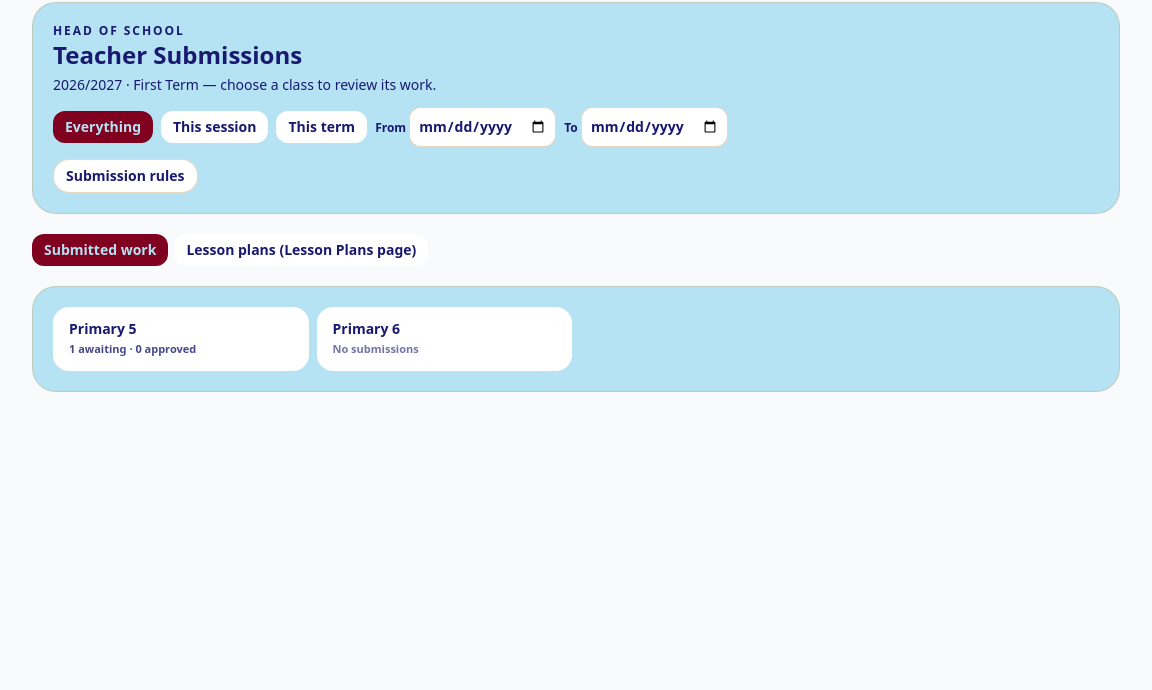
Scenario: a reviewer chooses a class, sees who has not submitted, and opening work starts its review
Click the button "Primary 5 1 awaiting · 0 approved" at [181, 339], box left=53, top=307, right=308, bottom=371
(page scrolled)
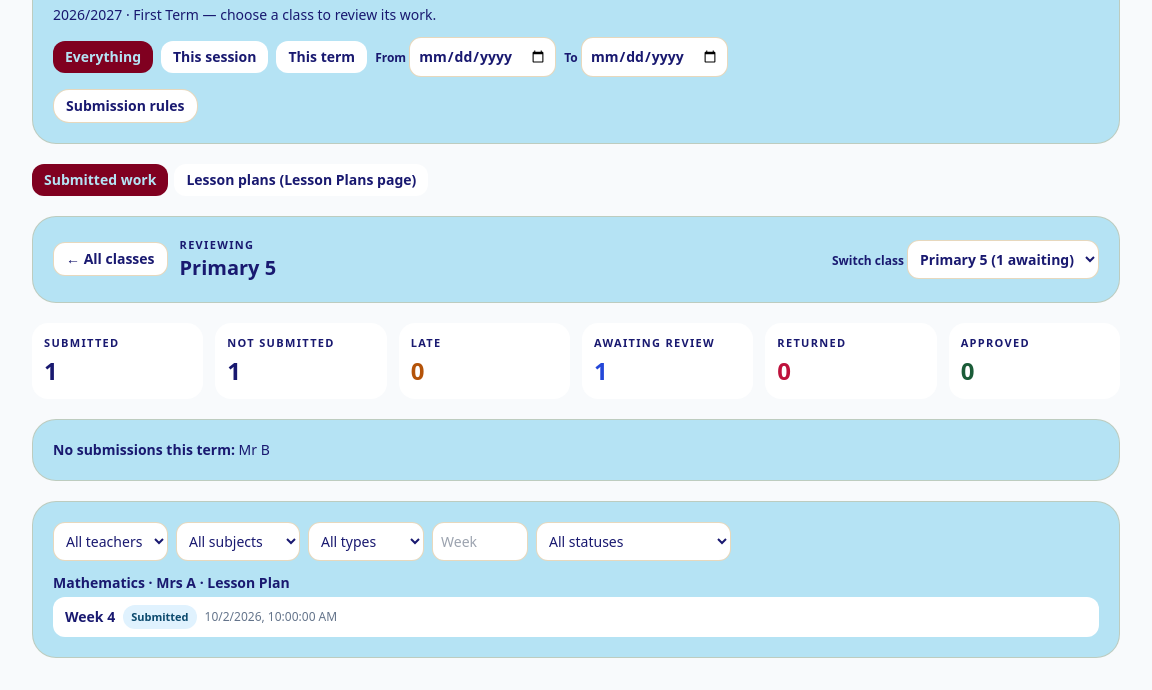
Expected: the text "No submissions this term:" is shown, left=53, top=440, right=235, bottom=459
Expected: the text "Mr B" is shown, left=239, top=440, right=270, bottom=459
Expected: the heading "Mathematics · Mrs A · Lesson Plan" is shown, left=53, top=573, right=290, bottom=592
Click the text "Week 4" at [90, 617], box left=65, top=607, right=115, bottom=627
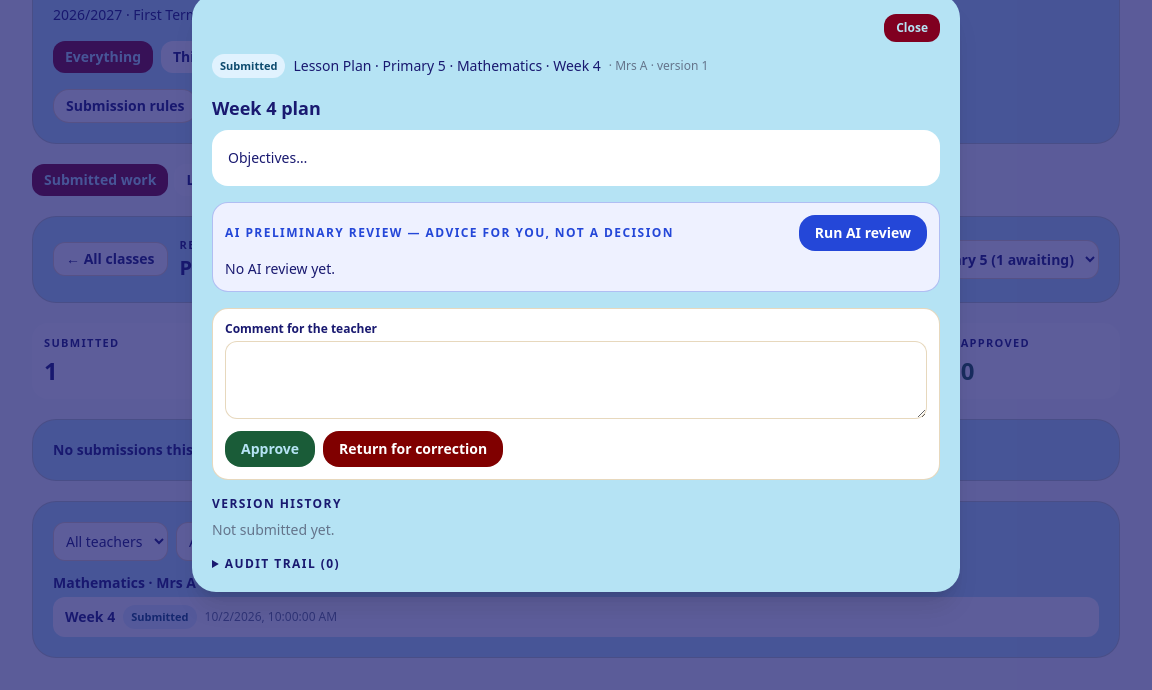
Expected: the text "AI preliminary review — advice for you, not a decision" is shown, left=225, top=224, right=674, bottom=241
